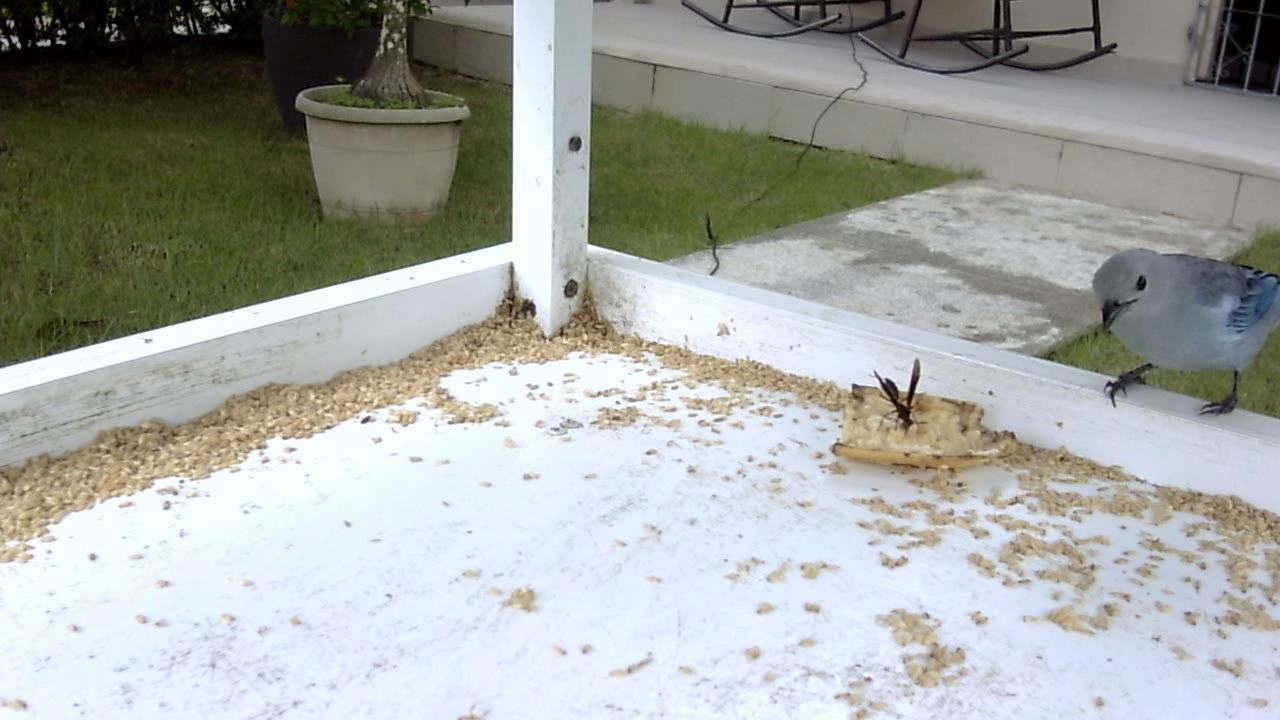sanhaco_da_amazonia: (1086, 236, 1280, 426)
